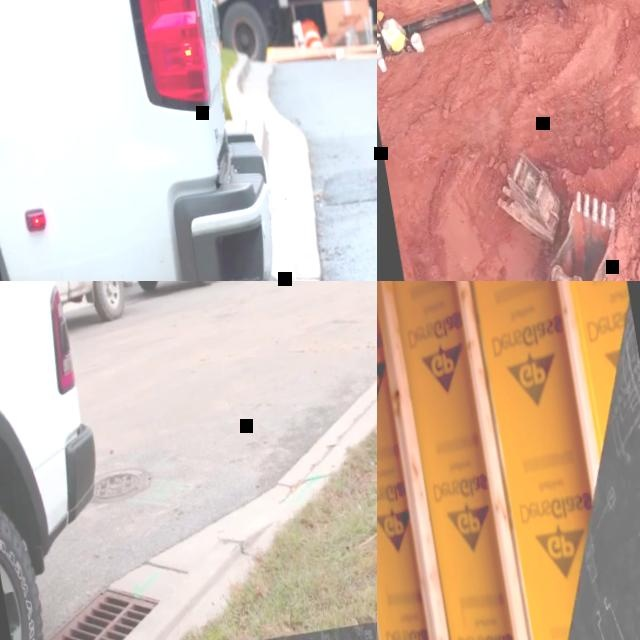Hardhat: (377, 10, 384, 22)
Person: (377, 7, 410, 57), (459, 0, 491, 25), (377, 5, 382, 46)
Safety Cone: (298, 20, 323, 53)
Safety Vest: (380, 17, 401, 47)
machinery: (504, 0, 640, 281), (534, 186, 628, 281)
vehicle: (0, 0, 351, 281), (0, 281, 129, 640), (0, 281, 146, 345)
